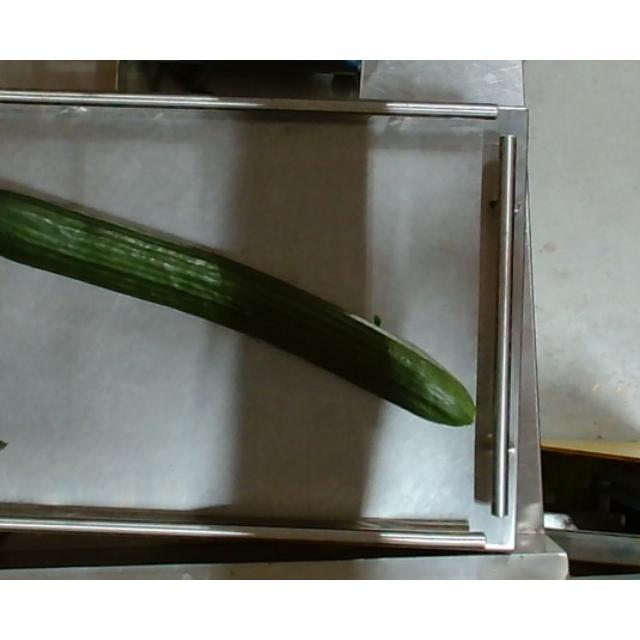cucumber: (0, 182, 478, 428)
